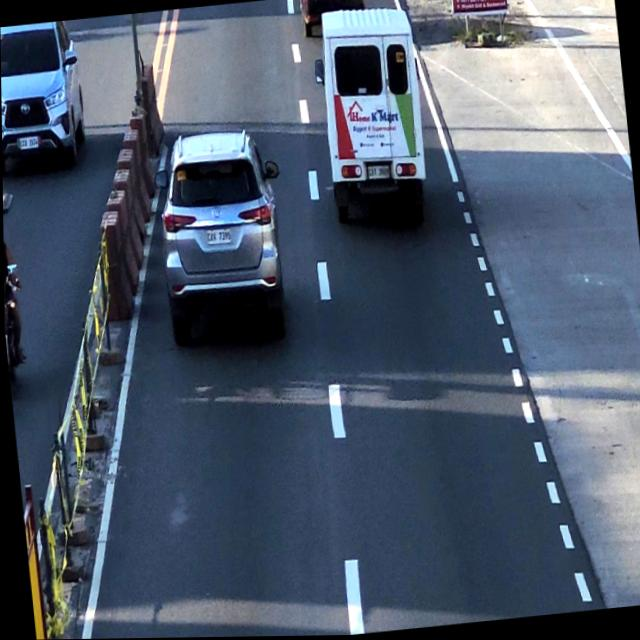Car: (310, 0, 433, 224), (153, 125, 285, 332)
License-Plate: (203, 224, 234, 247), (364, 163, 390, 184)
